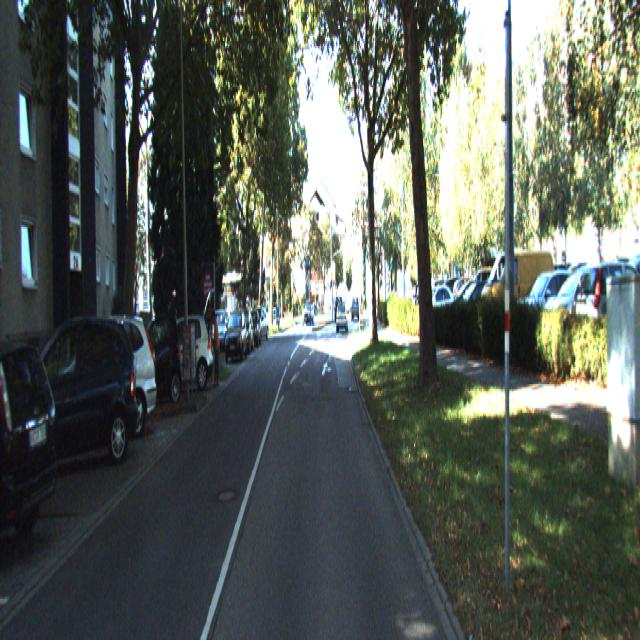Car: (0, 306, 139, 482), (50, 308, 158, 462), (0, 328, 62, 583), (150, 309, 214, 392), (132, 316, 181, 406), (224, 307, 247, 364), (232, 307, 253, 355)
